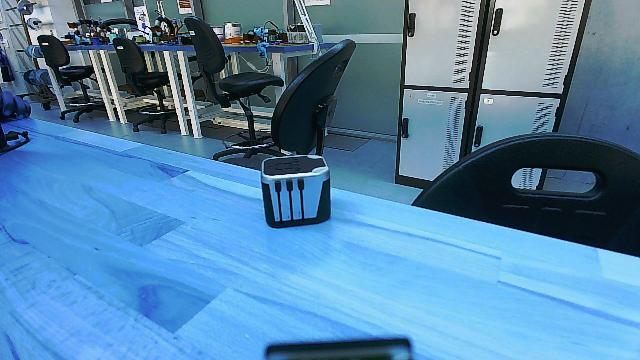adapter: (256, 154, 332, 226)
